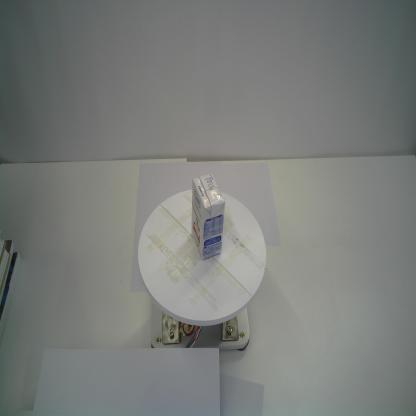Milk: (192, 173, 226, 260)
